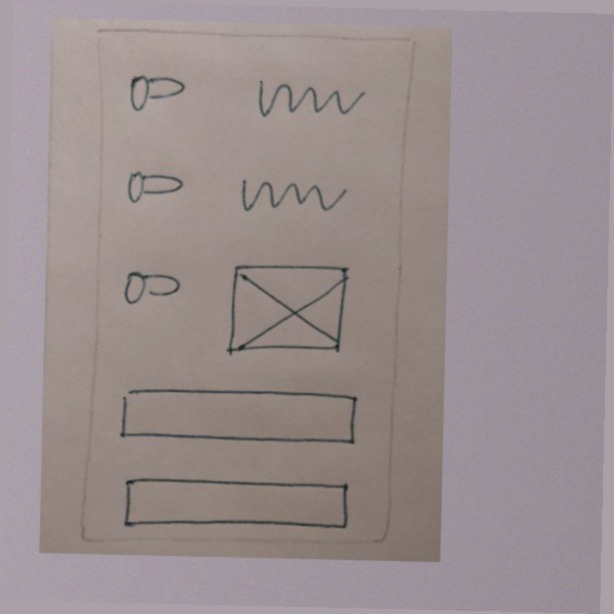image: (220, 255, 354, 362)
switch: (122, 66, 188, 121), (123, 157, 188, 212), (118, 259, 183, 314)
text: (249, 73, 369, 128), (232, 168, 352, 223)
text_input: (115, 382, 363, 454), (117, 471, 354, 534)
